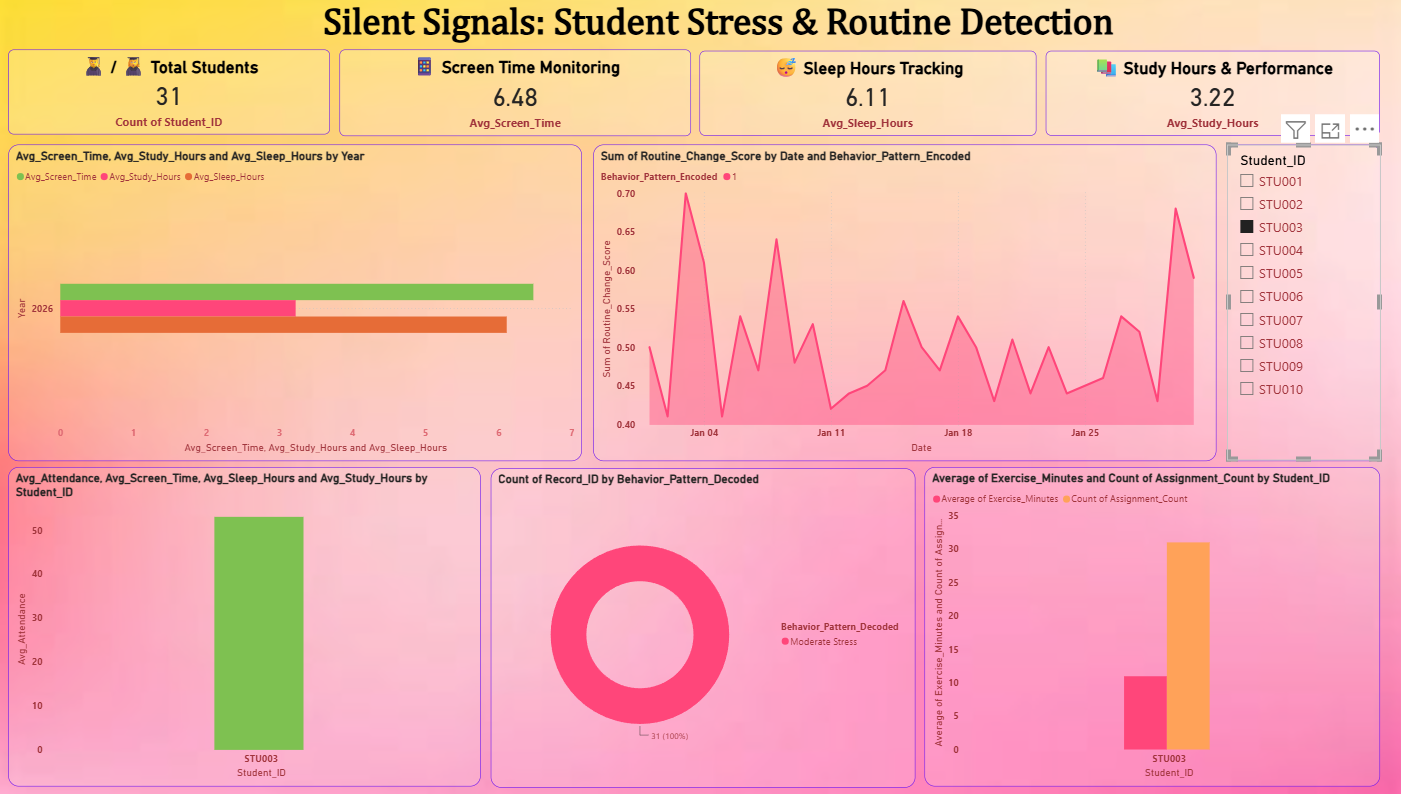

This screenshot's page, from the dashboard's own definition file:
{"tool":"powerbi","page":{"name":"Page 1","canvas":[2000,1150],"ordinal":0},"visuals":[{"type":"donutChart","fields":{"Category":["Silent_Signals_Cleaned_10Students.Behavior_Pattern_Decoded"],"Y":["CountNonNull(Silent_Signals_Cleaned_10Students.Record_ID)"]},"box":[702,684,604,454],"z":0},{"type":"clusteredBarChart","fields":{"Category":["Silent_Signals_Cleaned_10Students.Date.Variation.Date Hierarchy.Year","Silent_Signals_Cleaned_10Students.Date.Variation.Date Hierarchy.Quarter","Silent_Signals_Cleaned_10Students.Date.Variation.Date Hierarchy.Month","Silent_Signals_Cleaned_10Students.Date.Variation.Date Hierarchy.Day"],"Y":["Silent_Signals_Cleaned_10Students.Avg_Screen_Time","Silent_Signals_Cleaned_10Students.Avg_Study_Hours","Silent_Signals_Cleaned_10Students.Avg_Sleep_Hours"]},"box":[16,224,816,450],"z":1000},{"type":"clusteredColumnChart","fields":{"Category":["Silent_Signals_Cleaned_10Students.Student_ID"],"Y":["Avg(Silent_Signals_Cleaned_10Students.Exercise_Minutes)","CountNonNull(Silent_Signals_Cleaned_10Students.Assignment_Count)"]},"box":[1320,682,648,454],"z":2000},{"type":"clusteredColumnChart","fields":{"Category":["Silent_Signals_Cleaned_10Students.Student_ID"],"Y":["Silent_Signals_Cleaned_10Students.Avg_Attendance"]},"box":[16,682,672,454],"z":3000},{"type":"stackedAreaChart","fields":{"Y":["Sum(Silent_Signals_Cleaned_10Students.Routine_Change_Score)"],"Series":["Silent_Signals_Cleaned_10Students.Behavior_Pattern_Encoded"],"Category":["Silent_Signals_Cleaned_10Students.Date"]},"box":[848,224,886,450],"z":4000},{"type":"slicer","fields":{"Values":["Silent_Signals_Cleaned_10Students.Student_ID"]},"box":[1750,224,218,450],"z":5000},{"type":"card","title":"👨🎓 / 👩🎓 Total Students","fields":{"Values":["CountNonNull(Silent_Signals_Cleaned_10Students.Student_ID)"]},"box":[15.4,88.5,457.7,121.2],"z":7000},{"type":"card","title":"📱 Screen Time Monitoring","fields":{"Values":["Silent_Signals_Cleaned_10Students.Avg_Screen_Time"]},"box":[486.5,88.5,500,123.1],"z":8000},{"type":"card","title":"😴 Sleep Hours Tracking","fields":{"Values":["Silent_Signals_Cleaned_10Students.Avg_Sleep_Hours"]},"box":[1000,90.4,478.8,121.2],"z":9000},{"type":"card","title":"📚 Study Hours & Performance","fields":{"Values":["Silent_Signals_Cleaned_10Students.Avg_Study_Hours"]},"box":[1492.3,90.4,475,121.2],"z":10000},{"type":"textbox","box":[424,16,1206,78],"z":11000}]}

Visuals, with their boxes in screenshot pixels (x1, y1, x2, y2), scaled from the page's 2000x1150 canvas onto the 1401x794 screenshot:
donutChart - Silent_Signals_Cleaned_10Students.Behavior_Pattern_Decoded x CountNonNull(Silent_Signals_Cleaned_10Students.Record_ID): x1=492 y1=472 x2=915 y2=786
clusteredBarChart - Silent_Signals_Cleaned_10Students.Date.Variation.Date Hierarchy.Year x Silent_Signals_Cleaned_10Students.Date.Variation.Date Hierarchy.Quarter: x1=11 y1=155 x2=583 y2=465
clusteredColumnChart - Silent_Signals_Cleaned_10Students.Student_ID x Avg(Silent_Signals_Cleaned_10Students.Exercise_Minutes): x1=925 y1=471 x2=1379 y2=784
clusteredColumnChart - Silent_Signals_Cleaned_10Students.Student_ID x Silent_Signals_Cleaned_10Students.Avg_Attendance: x1=11 y1=471 x2=482 y2=784
stackedAreaChart - Sum(Silent_Signals_Cleaned_10Students.Routine_Change_Score) x Silent_Signals_Cleaned_10Students.Behavior_Pattern_Encoded: x1=594 y1=155 x2=1215 y2=465
slicer - Silent_Signals_Cleaned_10Students.Student_ID: x1=1226 y1=155 x2=1379 y2=465
"👨🎓 / 👩🎓 Total Students" card: x1=11 y1=61 x2=331 y2=145
"📱 Screen Time Monitoring" card: x1=341 y1=61 x2=691 y2=146
"😴 Sleep Hours Tracking" card: x1=700 y1=62 x2=1036 y2=146
"📚 Study Hours & Performance" card: x1=1045 y1=62 x2=1378 y2=146
textbox: x1=297 y1=11 x2=1142 y2=65
